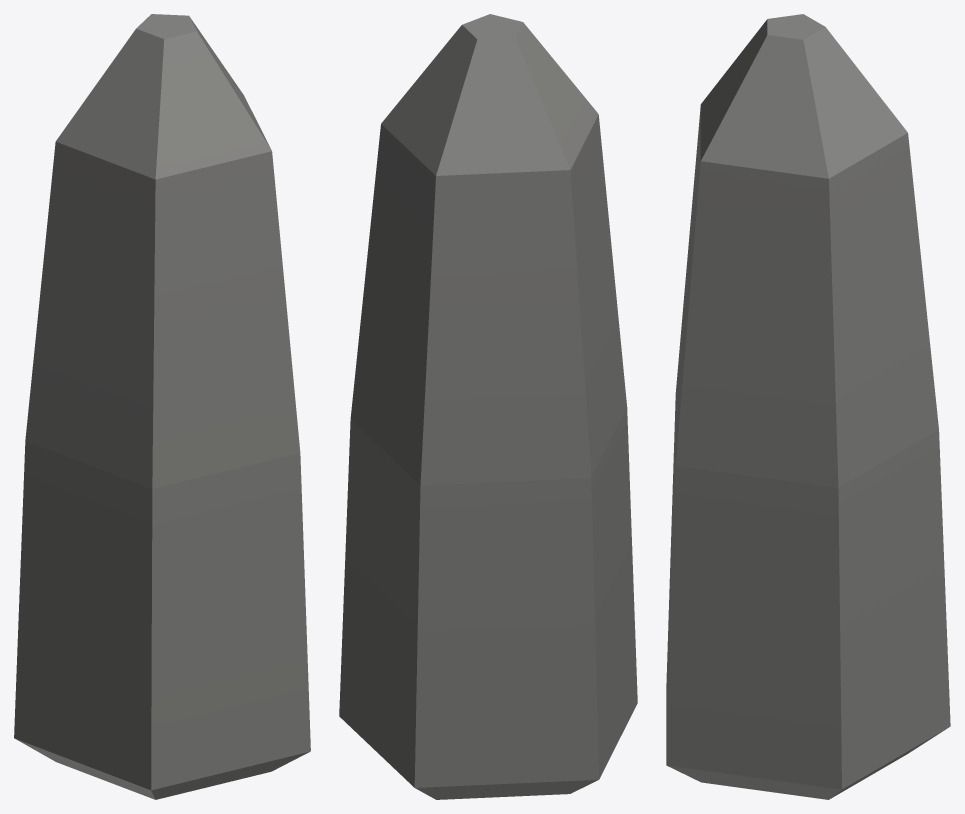
File: Corn_01.fbx
3 renders of one model, left to right at view 1: azimuth 30°, elevation 25°; view 2: azimuth 150°, elevation 25°; view 3: azimuth 270°, elevation 25°, orthographic.
Parts seen in each view (by area): view 1: Corn_01; view 2: Corn_01; view 3: Corn_01.
Boxes of the visible parts, x1=… form: Corn_01: x1=14, y1=14, x2=310, y2=799; Corn_01: x1=339, y1=14, x2=637, y2=799; Corn_01: x1=666, y1=14, x2=950, y2=799.
Bounding box in the file's own units: 0.0968 × 0.26 × 0.0921.
